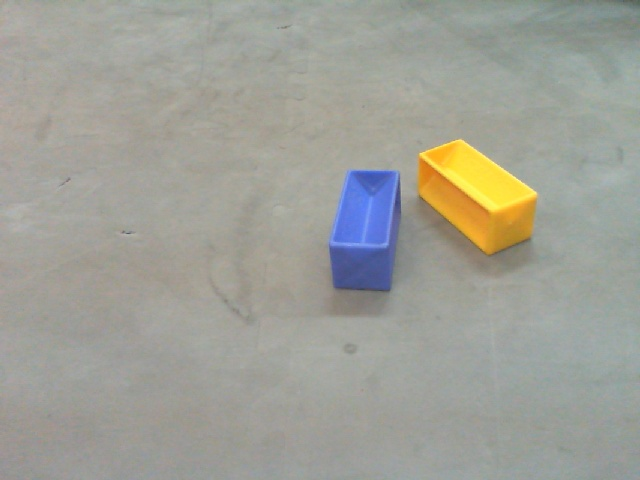BlueSample: (328, 165, 404, 294)
YellowSample: (415, 138, 540, 264)
